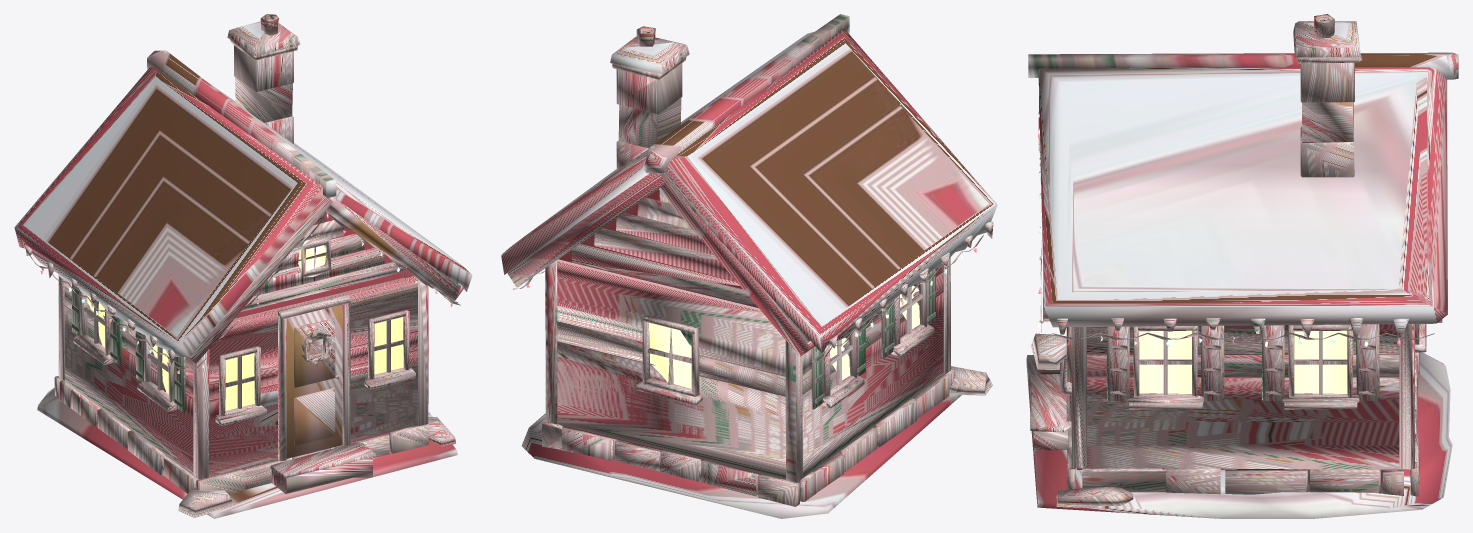
The model's file is snowy-cabin.glb.
3 views of the same model, side by side, from view 1: azimuth 30°, elevation 25°; view 2: azimuth 150°, elevation 25°; view 3: azimuth 270°, elevation 25° (orthographic). The views are drawn at different scales.
Parts seen in each view (by area): view 1: snowy-cabin_body, snowy-cabin_window_glow; view 2: snowy-cabin_body, snowy-cabin_window_glow; view 3: snowy-cabin_body, snowy-cabin_window_glow.
Part boxes in pixels (x1,y1,x2,y2): snowy-cabin_body: (14, 14, 472, 518); snowy-cabin_window_glow: (87, 240, 403, 410); snowy-cabin_body: (501, 14, 997, 518); snowy-cabin_window_glow: (649, 285, 919, 388); snowy-cabin_body: (1026, 14, 1458, 518); snowy-cabin_window_glow: (1139, 330, 1347, 393).
Bounding box in the file's own units: 4.2 × 4.96 × 4.35.
Materials: 7 (1 with a texture image).
